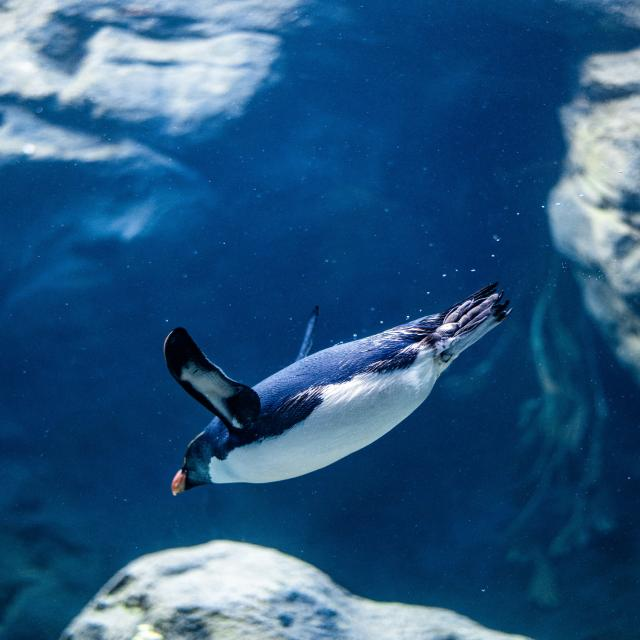Penguins: (152, 283, 526, 505)
